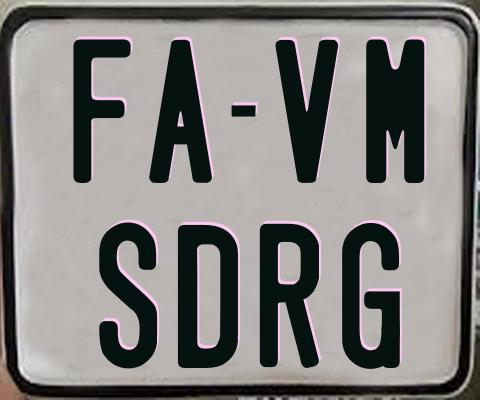A: (146, 39, 213, 186)
D: (177, 225, 238, 369)
F: (73, 39, 134, 183)
G: (339, 220, 398, 370)
M: (363, 36, 421, 180)
R: (258, 221, 320, 366)
S: (96, 220, 157, 372)
V: (275, 38, 339, 187)
